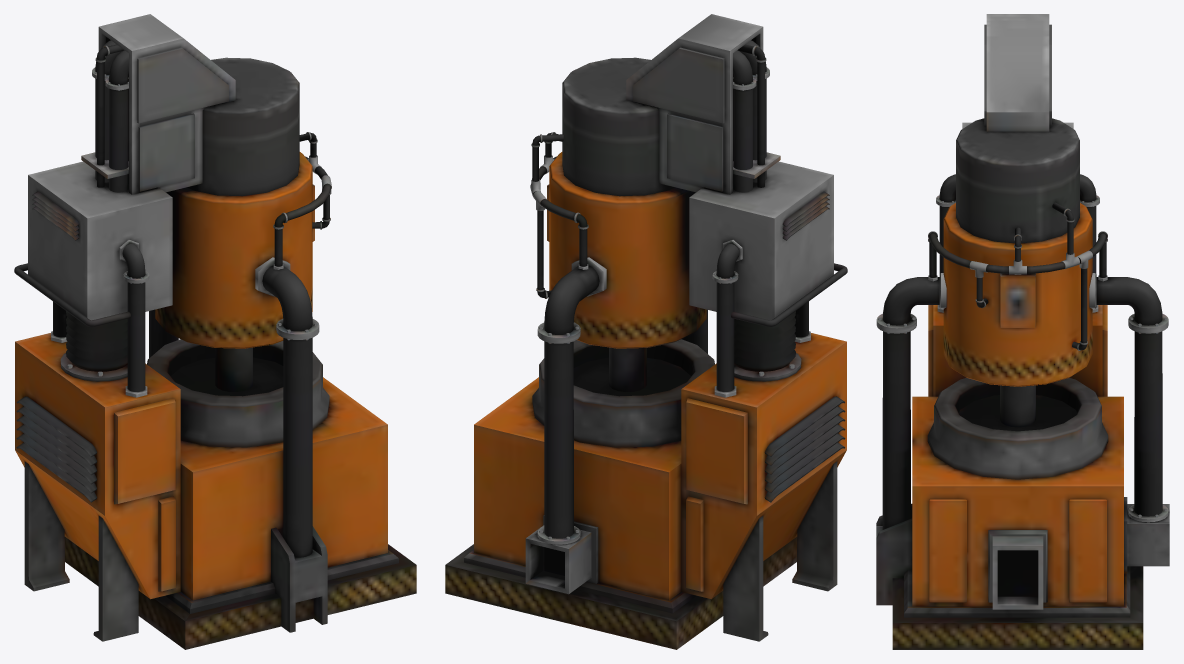
File: SM_BlastFurnaceElectric_67221f.glb
3 renders of one model, left to right at view 1: azimuth 30°, elevation 25°; view 2: azimuth 150°, elevation 25°; view 3: azimuth 270°, elevation 25°, orthographic. The views are drawn at different scales.
Bounding box in the file's own units: 1.78 × 3.11 × 1.56.
1 material, 1 textured.
